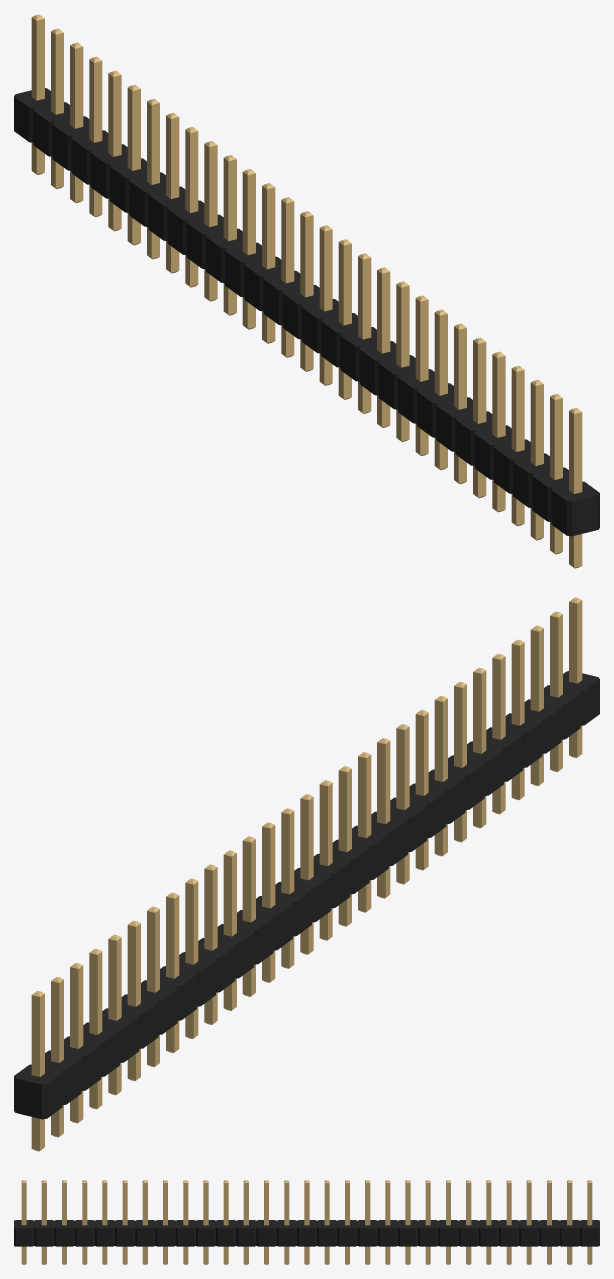
The model's file is kc-pinheader_1x29_p2.54mm_vertical.glb.
The picture shows the model from 3 angles, top to bottom: view 1: azimuth 30°, elevation 25°; view 2: azimuth 150°, elevation 25°; view 3: azimuth 270°, elevation 25°; orthographic projection. The views are drawn at different scales.
Visible parts, largest first — view 1: 0.75_0.5_0.25_0.9, 0_0_0_0; view 2: 0.75_0.5_0.25_0.9, 0_0_0_0; view 3: 0_0_0_0, 0.75_0.5_0.25_0.9.
Boxes of the visible parts, left/top/right/bottom form: 0.75_0.5_0.25_0.9: left=31, top=14, right=582, bottom=568; 0_0_0_0: left=14, top=88, right=599, bottom=536; 0.75_0.5_0.25_0.9: left=31, top=597, right=582, bottom=1151; 0_0_0_0: left=14, top=671, right=599, bottom=1119; 0_0_0_0: left=14, top=1220, right=599, bottom=1246; 0.75_0.5_0.25_0.9: left=21, top=1180, right=592, bottom=1264.
Size of the model in its own units: 0.2536 by 1.15 by 7.37.
